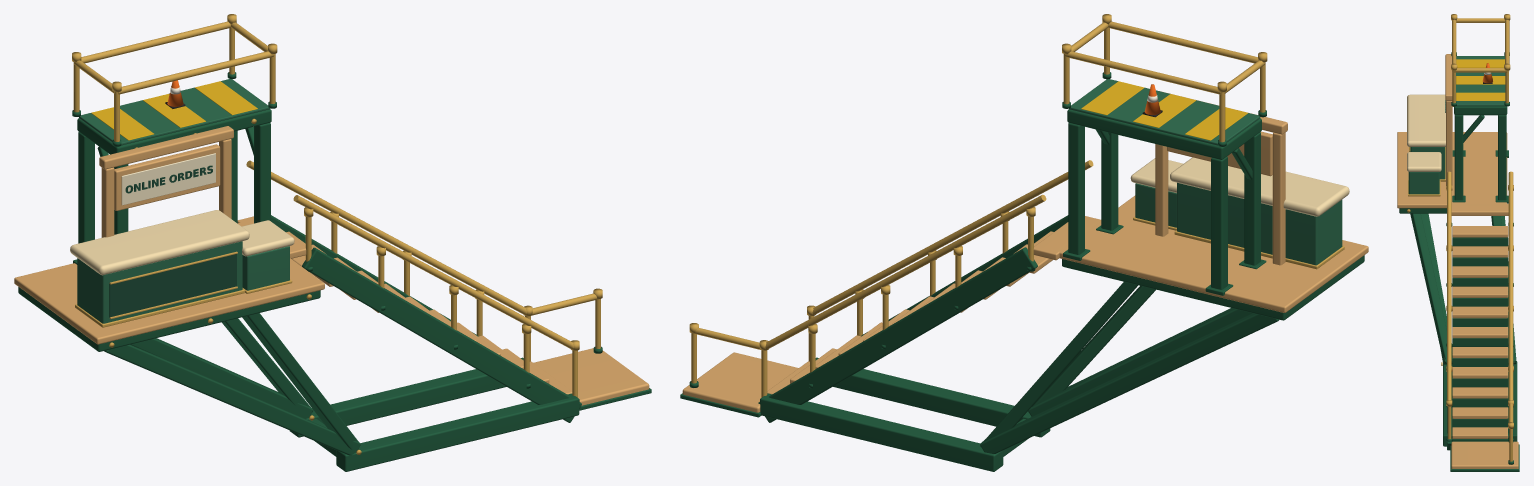
The model's file is online_deck.glb.
3 renders of one model, left to right at view 1: azimuth 30°, elevation 25°; view 2: azimuth 150°, elevation 25°; view 3: azimuth 270°, elevation 25°, orthographic. The views are drawn at different scales.
Parts seen in each view (by area): view 1: Stringer-0.03, DeckBoards, CounterTop, FloorBeam-0.03, Diag-0.03, CounterPanel, FloorBeam0.61, CounterBody, FootLanding, PadTop, Diag0.61, Diag2-0.03 (+21 smaller); view 2: DeckBoards, Stringer0.61, CounterBody, FloorBeam0.61, Diag0.61, FloorBeam-0.03, CounterTop, FootLanding, PadTop, Diag-0.03, Diag20.61, PadFrame (+20 smaller); view 3: DeckBoards, CounterTop, FootLanding, Diag2-0.03, StairRail0.61, StairRail-0.03, PadTop, PadPost0.770.07, PadPost0.770.52, SideBody, Tread4, Diag-0.03 (+42 smaller).
Part boxes in pixels (x1,y1,x2,y2): Stringer-0.03: (302, 247, 581, 422); DeckBoards: (14, 222, 324, 344); CounterTop: (70, 210, 249, 275); FloorBeam-0.03: (336, 393, 579, 471); Diag-0.03: (104, 344, 360, 455); CounterPanel: (109, 254, 236, 317); FloorBeam0.61: (289, 357, 523, 437); CounterBody: (77, 241, 242, 323); FootLanding: (533, 348, 649, 405); PadTop: (79, 79, 269, 145); Diag0.61: (130, 338, 312, 418); Diag2-0.03: (242, 313, 360, 449); DeckBoards: (1059, 195, 1368, 312); Stringer0.61: (758, 247, 1037, 422); CounterBody: (1177, 182, 1342, 265); FloorBeam0.61: (760, 393, 1003, 471); Diag0.61: (980, 313, 1279, 453); FloorBeam-0.03: (815, 357, 1050, 437); CounterTop: (1170, 157, 1349, 216); FootLanding: (682, 352, 798, 412); PadTop: (1069, 79, 1260, 145); Diag-0.03: (1028, 308, 1252, 416); Diag20.61: (980, 282, 1137, 446); PadFrame: (1067, 109, 1261, 159); DeckBoards: (1397, 132, 1507, 208); CounterTop: (1407, 94, 1445, 146); FootLanding: (1451, 441, 1518, 468); Diag2-0.03: (1410, 213, 1452, 364); StairRail0.61: (1508, 171, 1513, 400); StairRail-0.03: (1447, 171, 1451, 400); PadTop: (1456, 56, 1505, 106); PadPost0.770.07: (1454, 115, 1463, 200); PadPost0.770.52: (1498, 115, 1506, 200); SideBody: (1408, 172, 1439, 194); Tread4: (1452, 306, 1508, 318); Diag-0.03: (1421, 213, 1452, 364).
Size of the model in its own units: 4.67 by 3.34 by 1.27.
